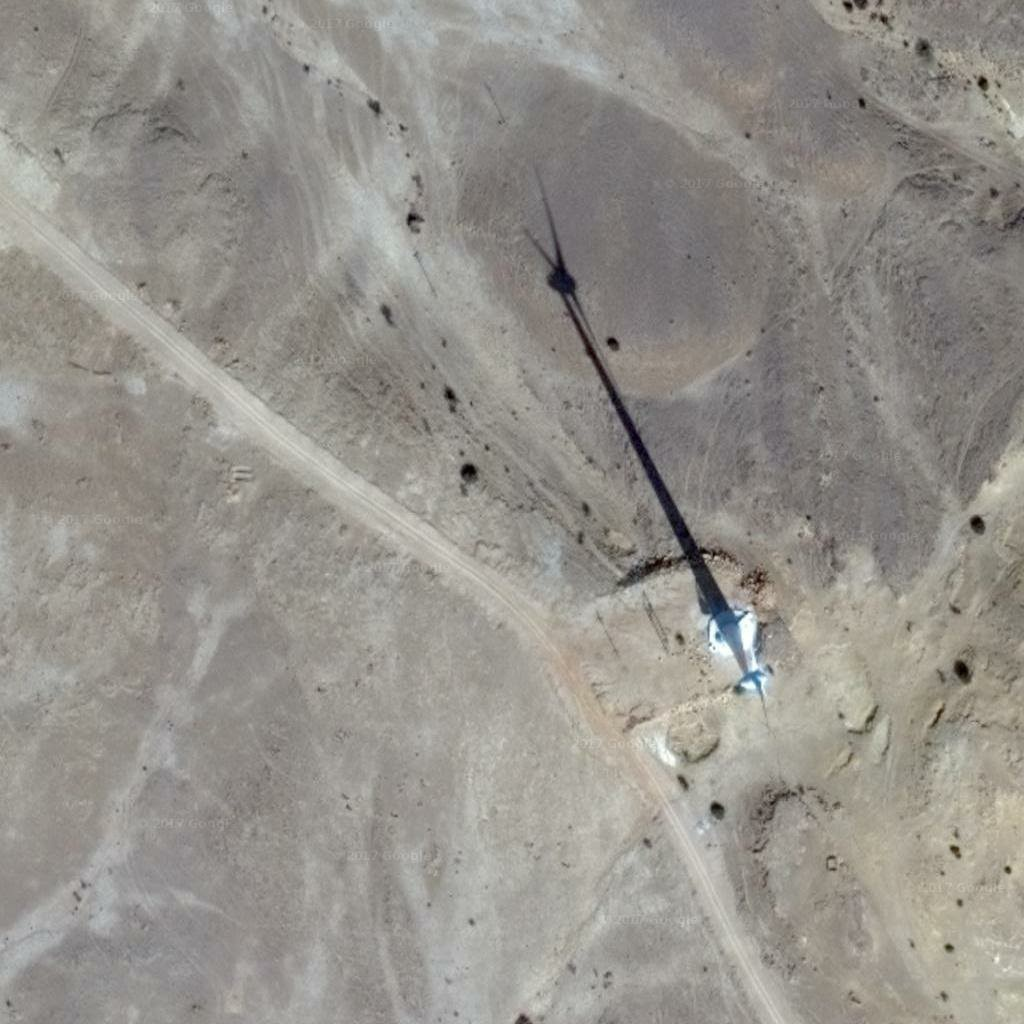Windmill: (501, 177, 740, 631)
